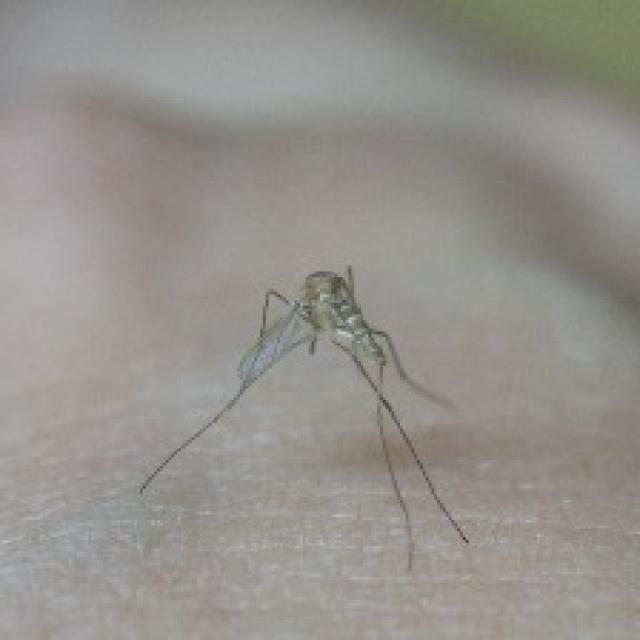culex: (137, 260, 472, 571)
